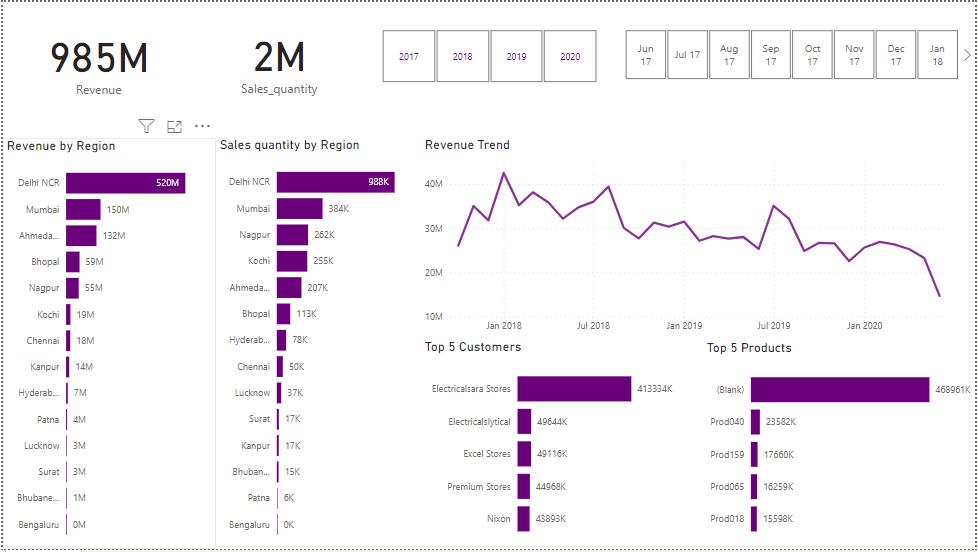

This screenshot's page, from the dashboard's own definition file:
{"tool":"powerbi","page":{"name":"Page 1","canvas":[1280,720],"ordinal":0},"visuals":[{"type":"card","fields":{"Values":["BaseMeasures.Revenue"]},"box":[0,1.4,252,149.8],"z":0},{"type":"card","fields":{"Values":["BaseMeasures.Sales_quantity"]},"box":[252,0,221.8,149.8],"z":1000},{"type":"clusteredBarChart","title":"Revenue by Region","fields":{"Y":["BaseMeasures.Revenue"],"Category":["sales markets.markets_name"]},"box":[0,178.6,280.8,541.4],"z":2000},{"type":"clusteredBarChart","title":"Sales quantity by Region","fields":{"Category":["sales markets.markets_name"],"Y":["BaseMeasures.Sales_quantity"]},"box":[280.8,177.1,269.3,542.9],"z":3000},{"type":"slicer","fields":{"Values":["sales date.year"]},"box":[473.8,30.2,331.2,82.1],"z":4000},{"type":"slicer","fields":{"Values":["sales date.cy_date"]},"box":[793.4,30.2,486.7,77.8],"z":5000},{"type":"clusteredBarChart","title":"Top 5 Customers ","fields":{"Category":["sales customers.custmer_name"],"Y":["BaseMeasures.Revenue"]},"box":[550.1,443.5,338.4,276.5],"z":6000},{"type":"clusteredBarChart","title":"Top 5 Products","fields":{"Category":["sales products.product_code"],"Y":["BaseMeasures.Revenue"]},"box":[921.6,445,358.6,275],"z":7000},{"type":"lineChart","title":"Revenue Trend","fields":{"Y":["BaseMeasures.Revenue"],"Category":["sales date.cy_date.Variation.Date Hierarchy.Year","sales date.cy_date.Variation.Date Hierarchy.Quarter","sales date.cy_date.Variation.Date Hierarchy.Month","sales date.cy_date.Variation.Date Hierarchy.Day"]},"box":[550.1,177.1,711.4,266.4],"z":8000}]}

Visuals, with their boxes in screenshot pixels (x1, y1, x2, y2), scaled from the page's 1280x720 canvas onto the 978x552 screenshot:
card - BaseMeasures.Revenue: (x1=0, y1=1, x2=193, y2=116)
card - BaseMeasures.Sales_quantity: (x1=193, y1=0, x2=362, y2=115)
"Revenue by Region" clusteredBarChart: (x1=0, y1=137, x2=215, y2=551)
"Sales quantity by Region" clusteredBarChart: (x1=215, y1=136, x2=420, y2=551)
slicer - sales date.year: (x1=362, y1=23, x2=615, y2=86)
slicer - sales date.cy_date: (x1=606, y1=23, x2=977, y2=83)
"Top 5 Customers " clusteredBarChart: (x1=420, y1=340, x2=679, y2=551)
"Top 5 Products" clusteredBarChart: (x1=704, y1=341, x2=977, y2=551)
"Revenue Trend" lineChart: (x1=420, y1=136, x2=964, y2=340)
